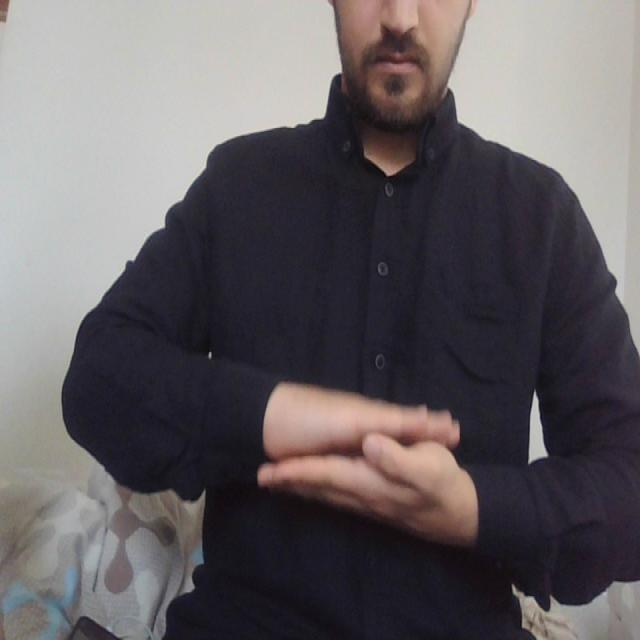Arkadas: (190, 370, 562, 533)
